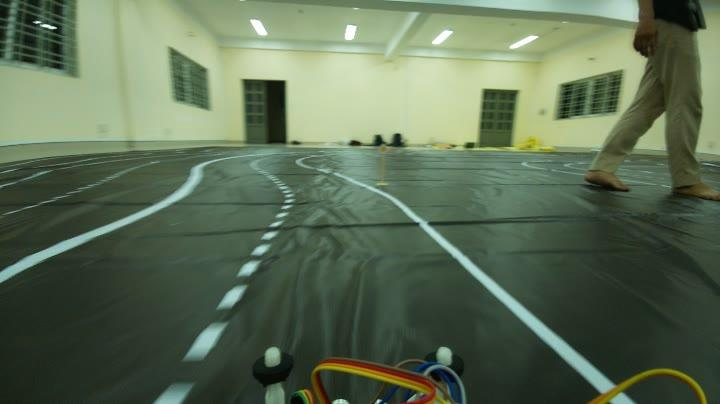priority: (376, 142, 390, 156)
